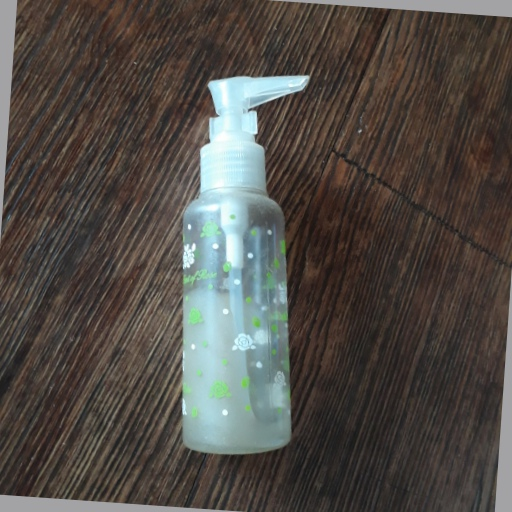Plastic_3: (178, 75, 310, 454)
